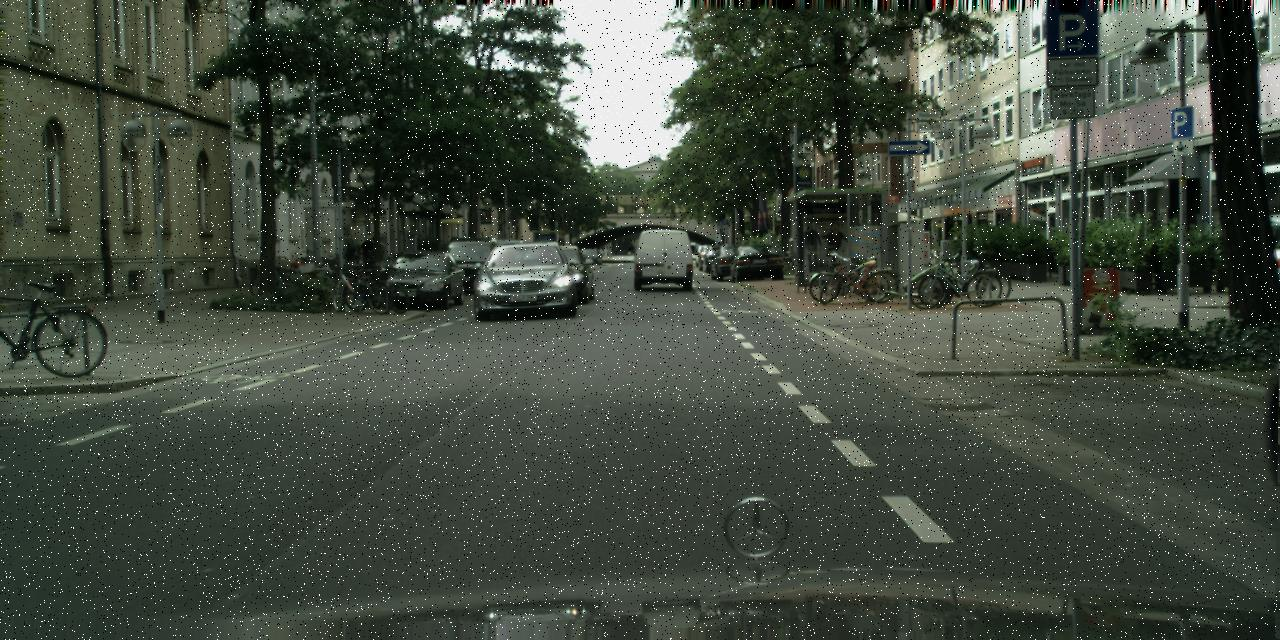ped: (361, 234, 376, 274), (486, 238, 501, 276)
